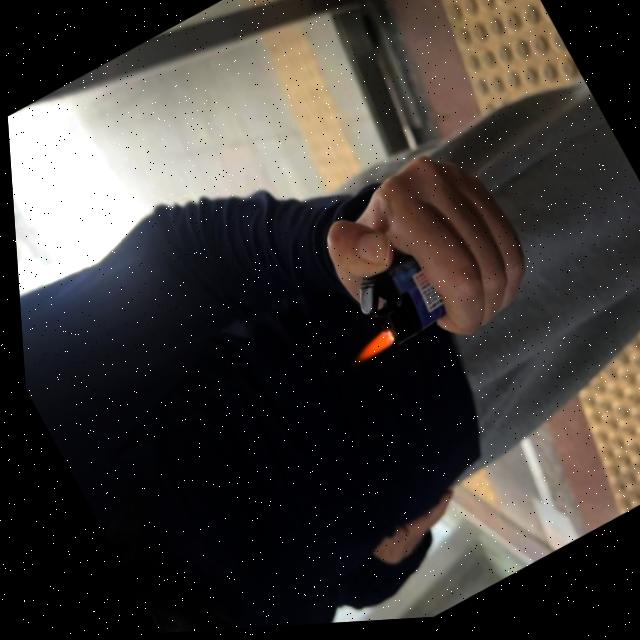Fire: (344, 331, 392, 372)
